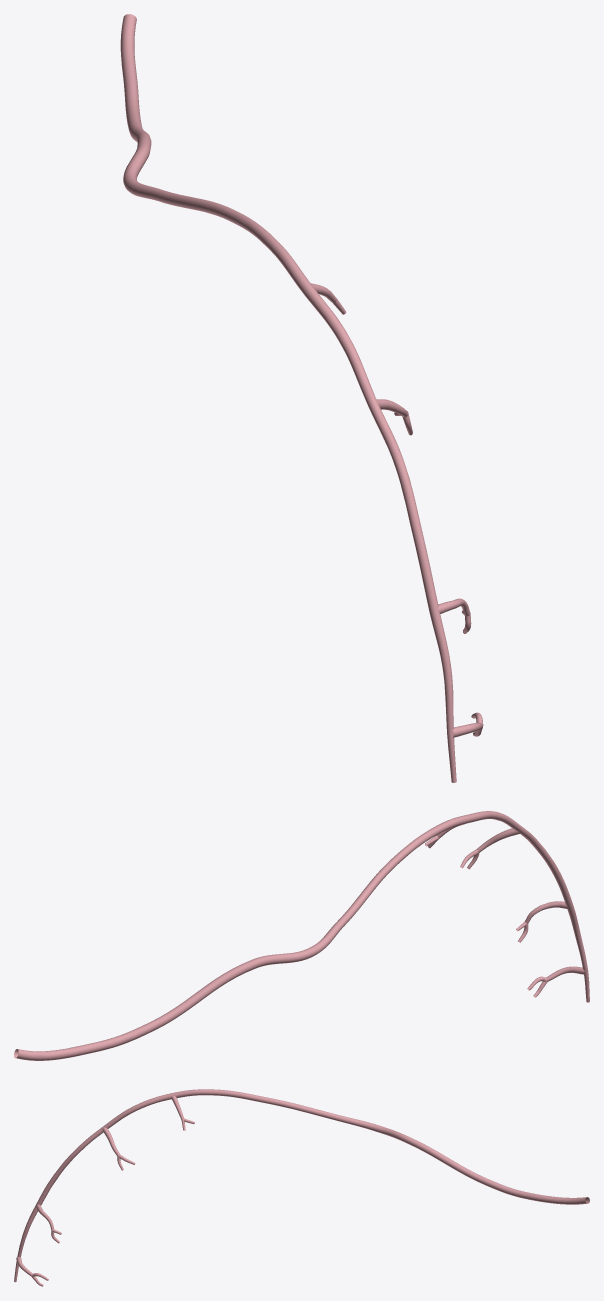
The model's file is circulatorio-dorsal-artery-of-penis-l.glb.
The picture shows the model from 3 angles, top to bottom: view 1: azimuth 30°, elevation 25°; view 2: azimuth 150°, elevation 25°; view 3: azimuth 270°, elevation 25°; orthographic projection. The views are drawn at different scales.
Parts seen in each view (by area): view 1: Dorsal artery of penis.l; view 2: Dorsal artery of penis.l; view 3: Dorsal artery of penis.l.
Boxes of the visible parts, left/top/right/bottom form: Dorsal artery of penis.l: left=120, top=14, right=483, bottom=782; Dorsal artery of penis.l: left=14, top=811, right=589, bottom=1060; Dorsal artery of penis.l: left=14, top=1089, right=589, bottom=1286.
Bounding box in the file's own units: 0.0343 × 0.0502 × 0.1335.
